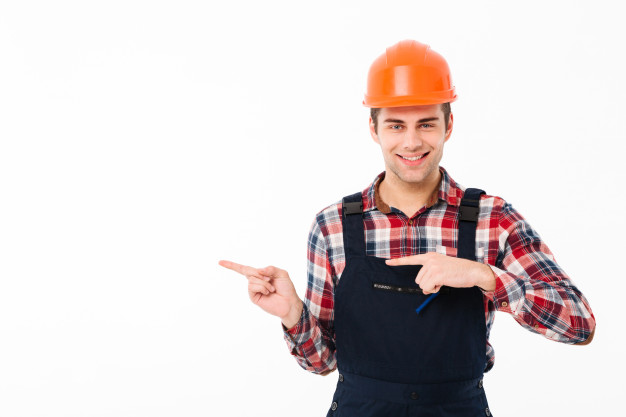Person_wearing_helmet: (356, 33, 458, 145)
